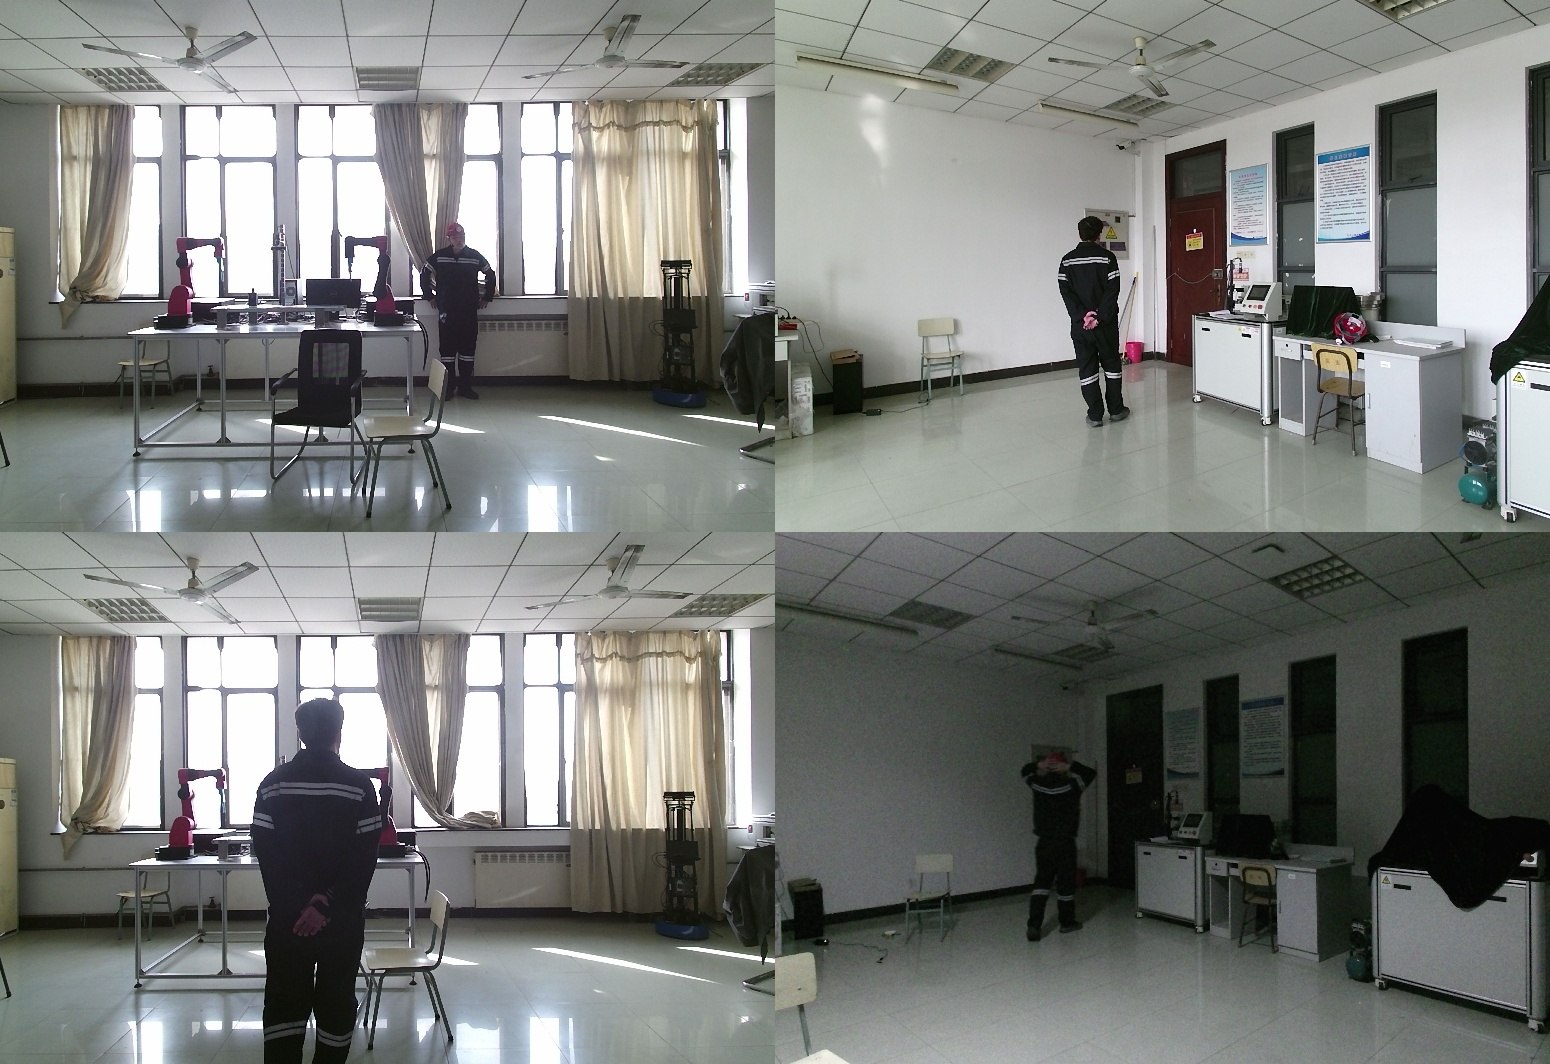person: (249, 699, 398, 1064), (1054, 215, 1135, 432), (1011, 754, 1092, 952), (420, 224, 499, 404)
